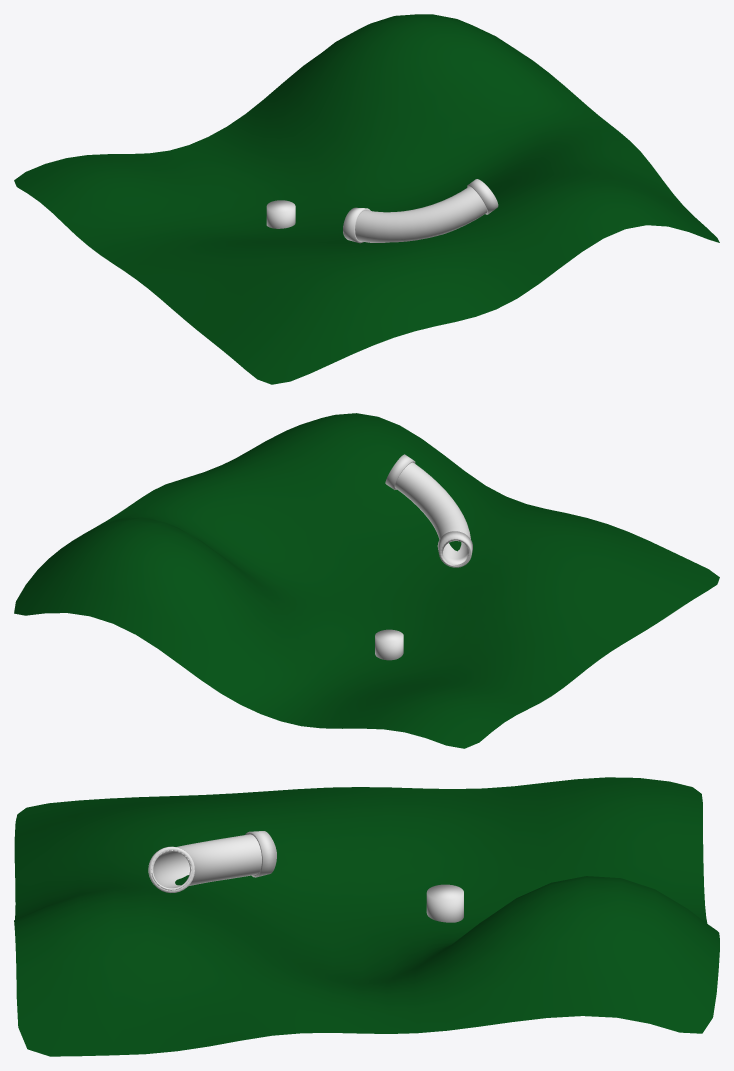
Rendered from floor.glb.
The picture shows the model from 3 angles, top to bottom: view 1: azimuth 30°, elevation 25°; view 2: azimuth 150°, elevation 25°; view 3: azimuth 270°, elevation 25°; orthographic projection. The views are drawn at different scales.
Parts seen in each view (by area): view 1: Plane, Cylinder.001, Cylinder.002, Cylinder; view 2: Plane, Cylinder.001, Cylinder.002, Cylinder; view 3: Plane, Cylinder.001, Cylinder, Cylinder.002.
Part boxes in pixels (box(x1,y1,x2,y2)): Plane: box(14, 14, 719, 384); Cylinder.001: box(355, 186, 487, 242); Cylinder.002: box(343, 179, 498, 243); Cylinder: box(266, 200, 295, 228); Plane: box(14, 413, 719, 748); Cylinder.001: box(395, 462, 470, 565); Cylinder.002: box(385, 454, 472, 567); Cylinder: box(375, 629, 403, 660); Plane: box(14, 777, 719, 1056); Cylinder.001: box(151, 834, 261, 890); Cylinder: box(426, 884, 463, 922); Cylinder.002: box(148, 831, 276, 892).
Bounding box in the file's own units: 58.91 × 14.52 × 58.68.
